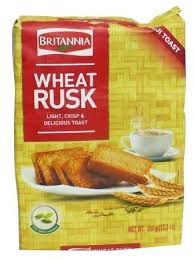Britania-toast-med: (17, 15, 185, 247)
